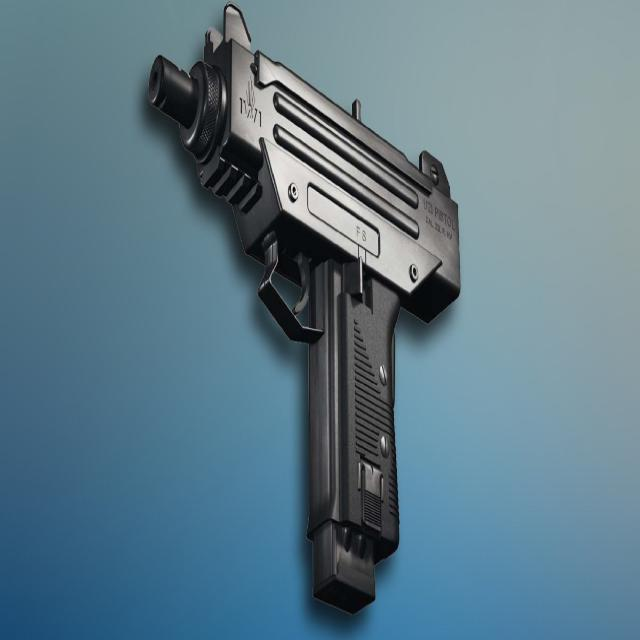SMG: (148, 4, 461, 592)
